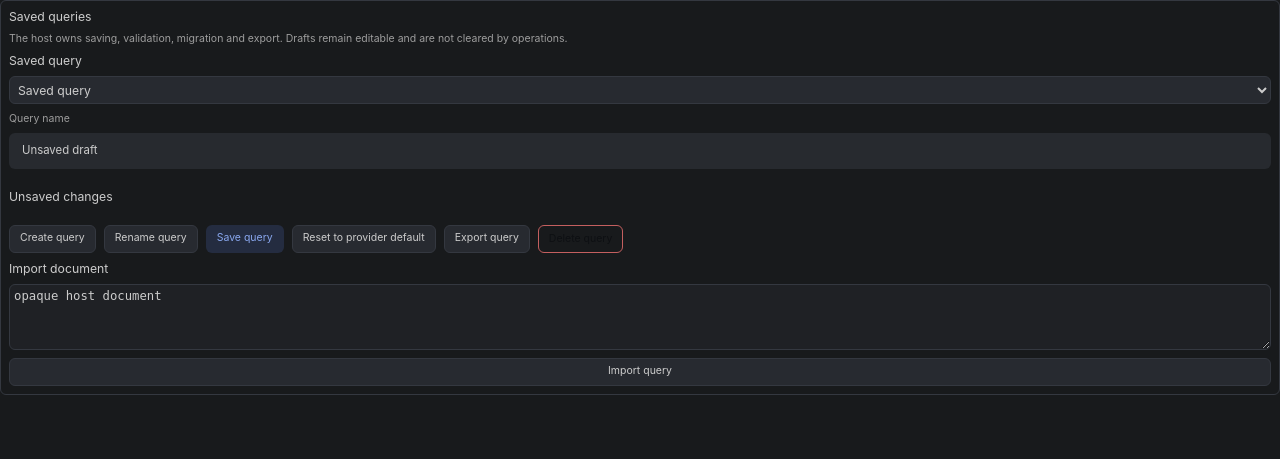
Scenario: resource workspace controls › preserves editable name and import drafts after host conflict
The image size is (1280, 459).
Click the button "Import query": (640, 372) [9,358,1271,386]
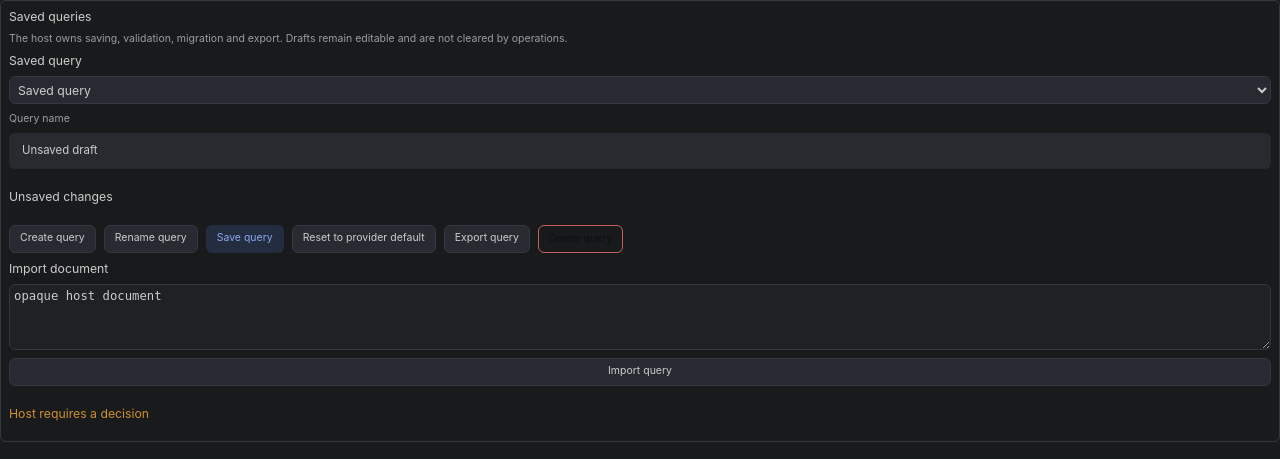
Check: the field labelled "Query name" holds "Unsaved draft", box [22,143,1258,159]
Check: the message "Host requires a decision" is shown, box [9,406,149,421]
